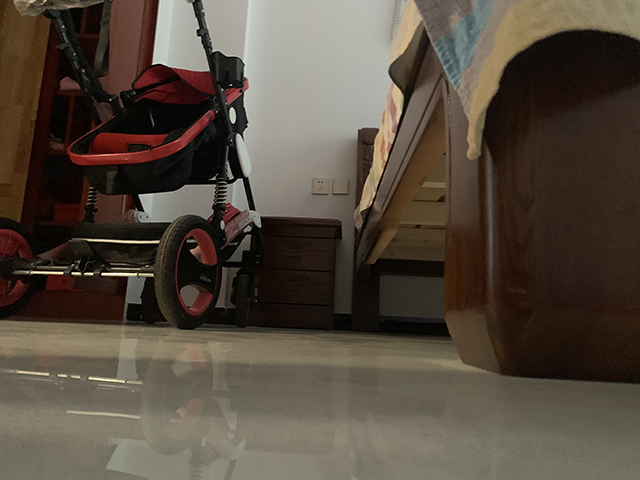bed: (350, 1, 640, 384)
cabinet: (1, 1, 157, 324), (249, 215, 342, 330)
